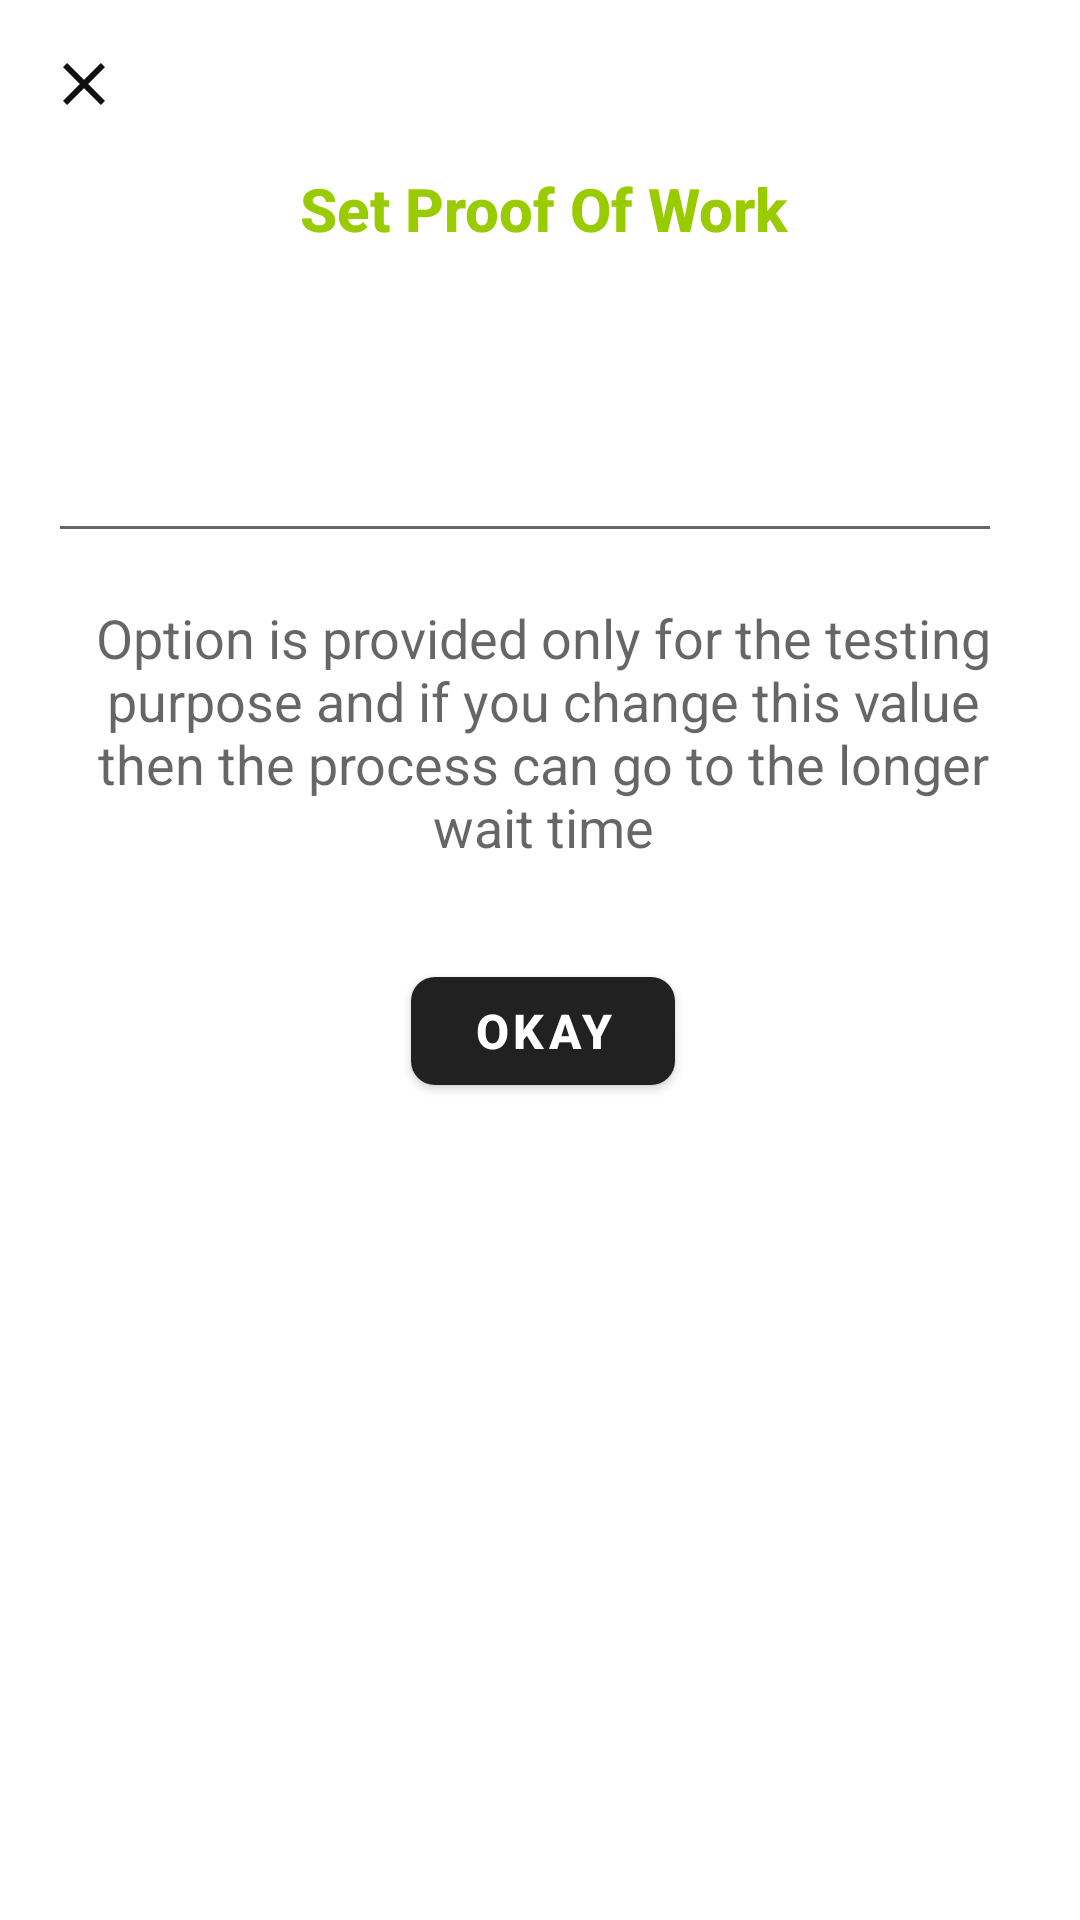

Where icons sit on this 1080 x 1920 app screen, as detection(x1, y1, x2, y2):
Close: detection(63, 63, 105, 105)
